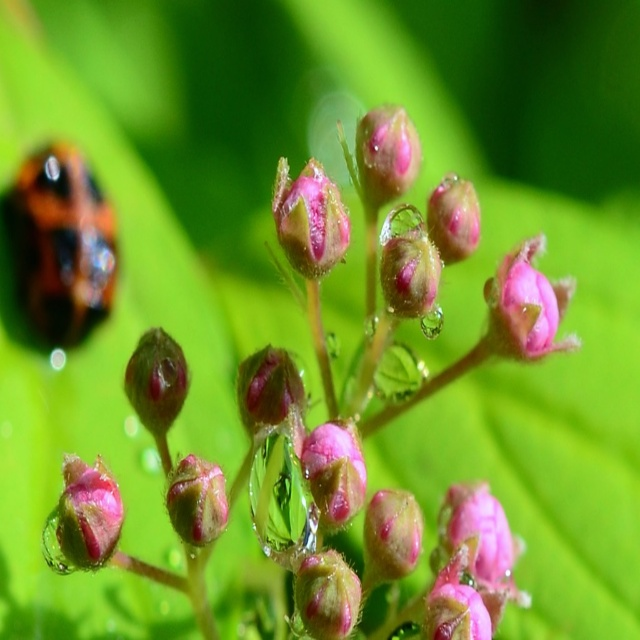Ladybug: (0, 141, 123, 357)
